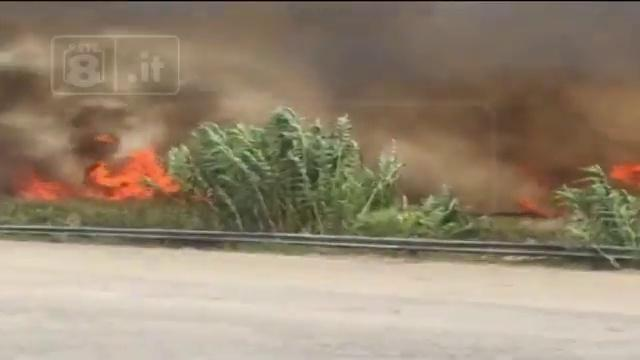fire: (95, 154, 175, 197), (12, 177, 72, 203)
smoke: (351, 19, 595, 125), (6, 97, 58, 158)
